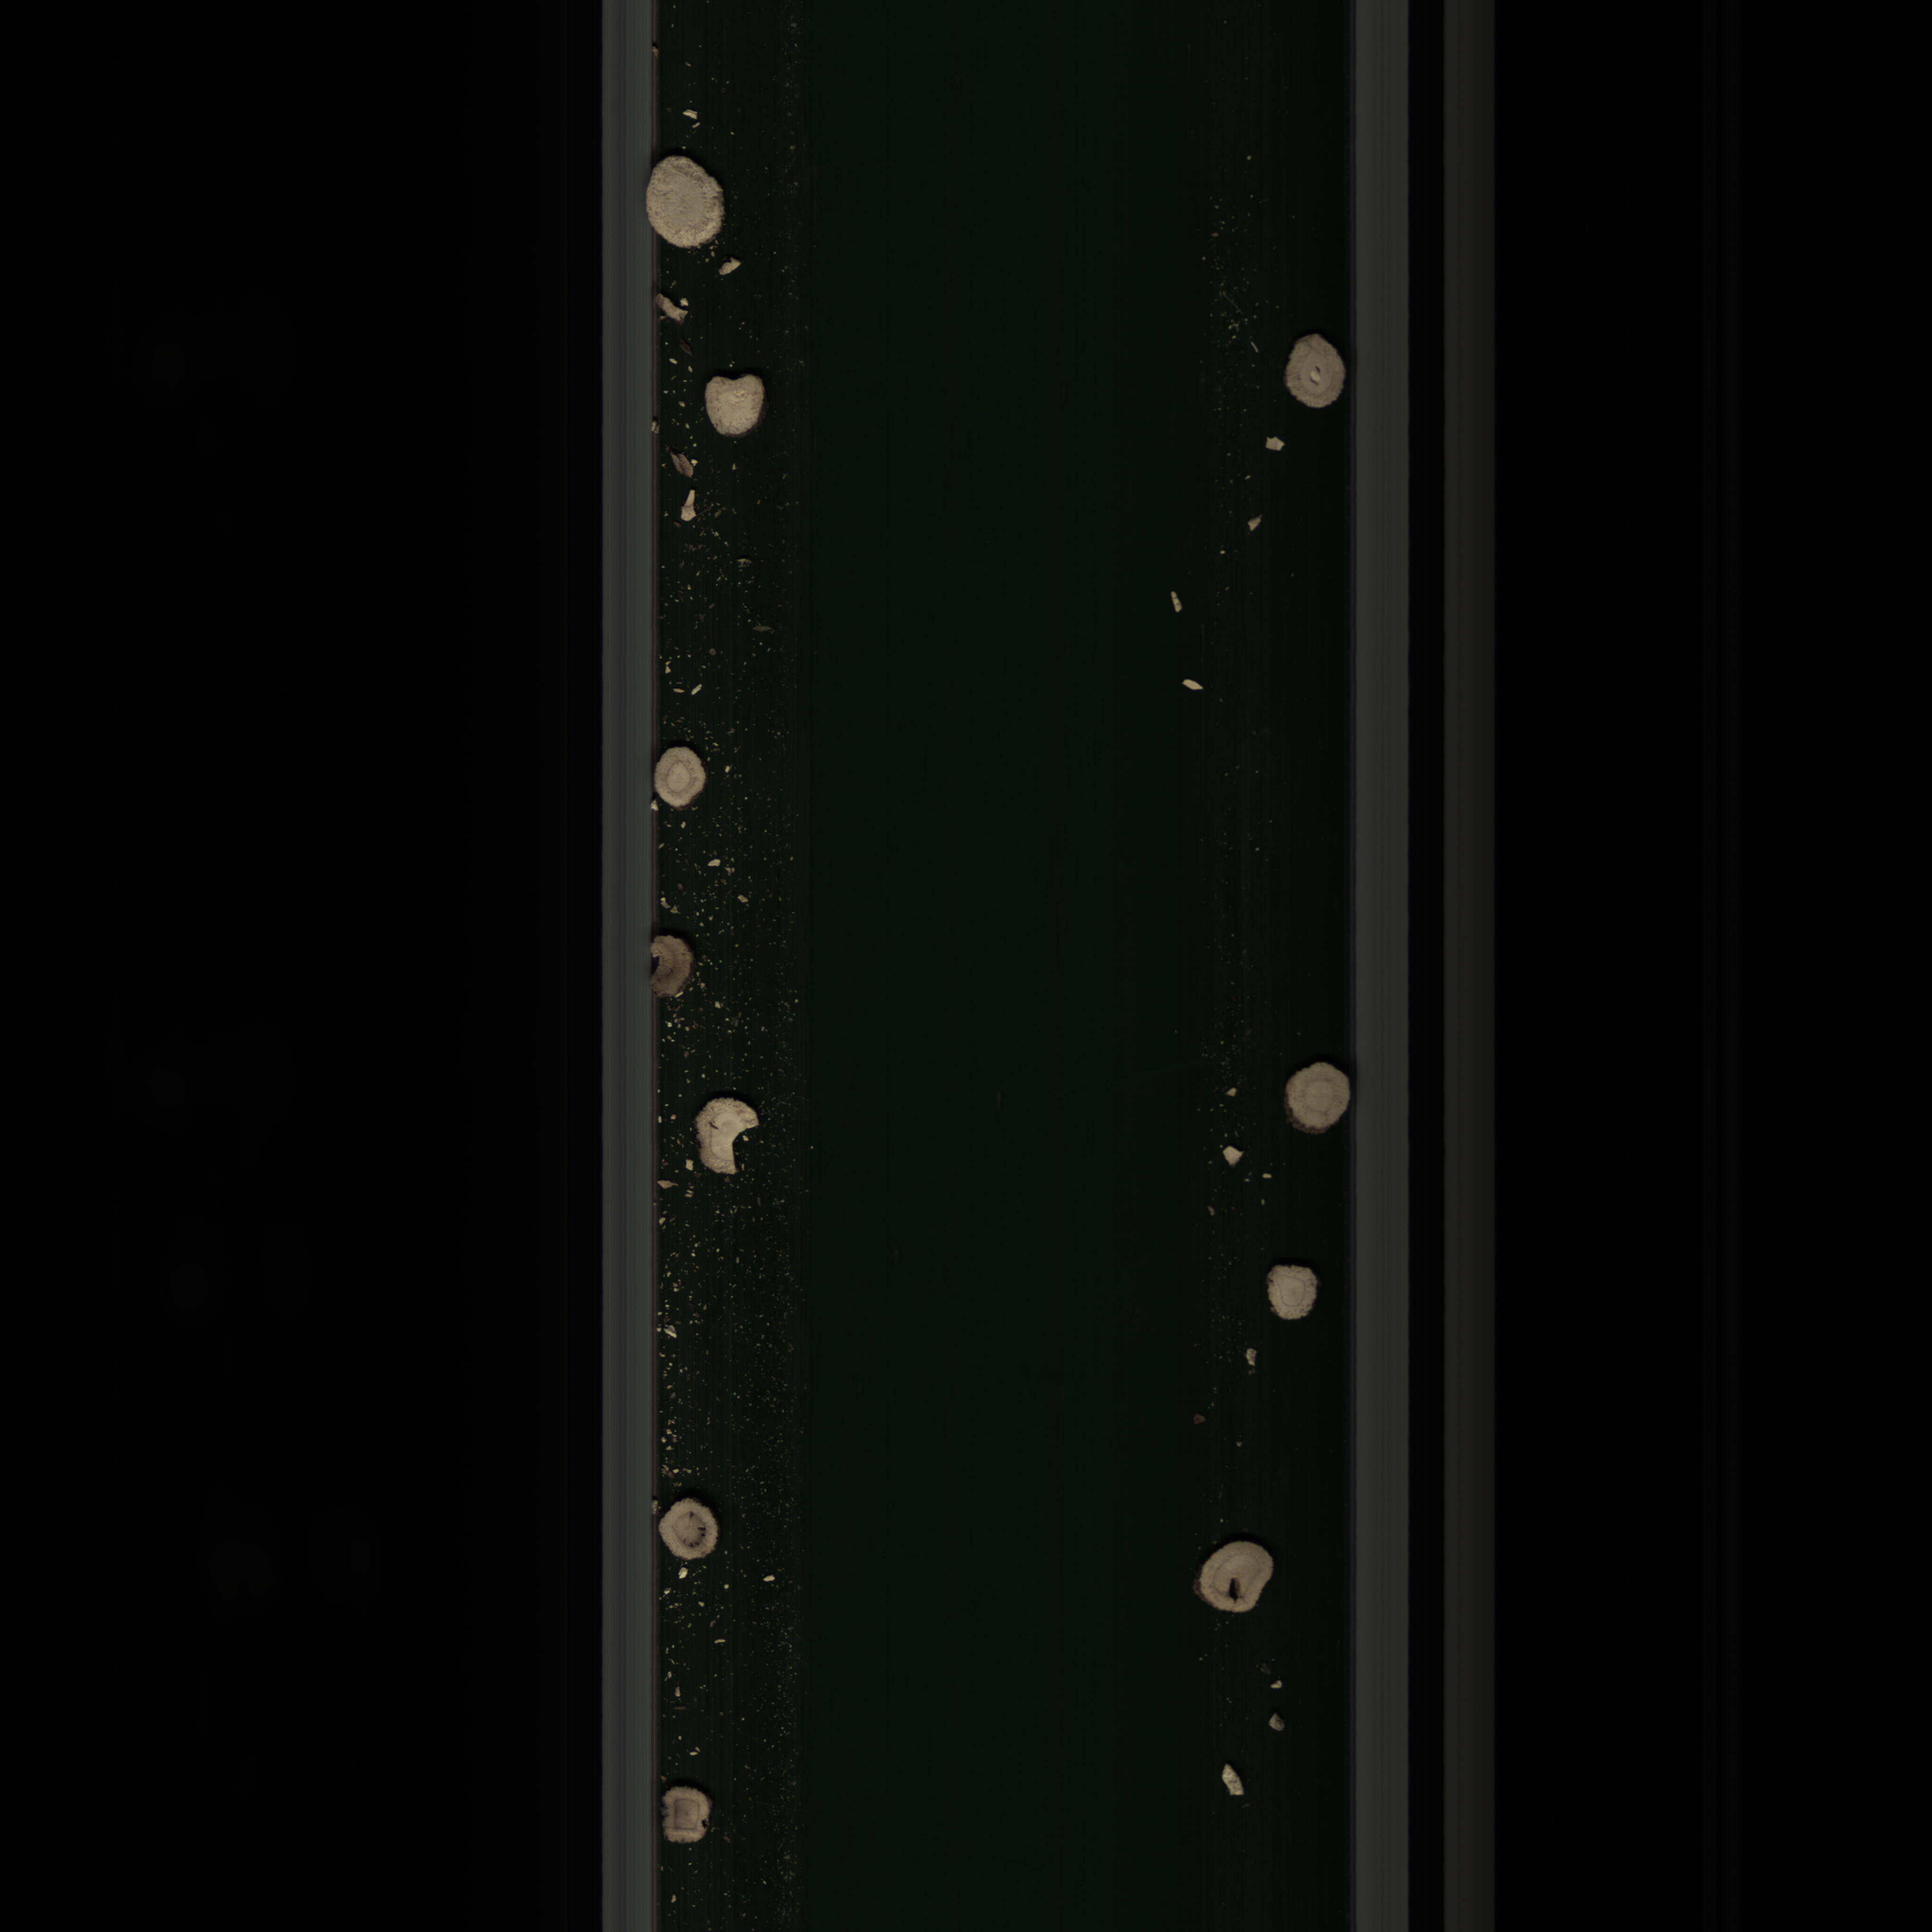debris: (695, 1092, 766, 1178), (1207, 1760, 1254, 1801), (667, 441, 708, 483), (1253, 430, 1293, 464), (672, 485, 706, 524), (1171, 669, 1210, 699), (1157, 587, 1194, 617), (711, 258, 755, 280), (1263, 1707, 1290, 1739), (1242, 511, 1270, 538)
hole: (1184, 1536, 1284, 1622), (663, 1497, 722, 1575)
moldy: (648, 929, 702, 998)
